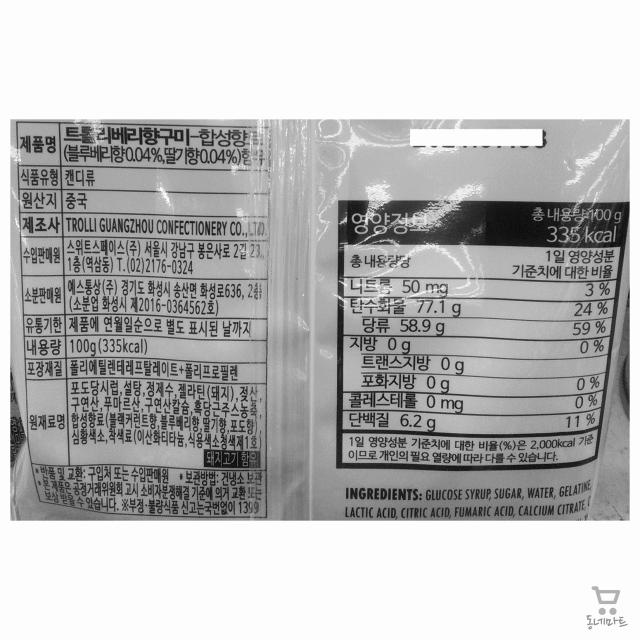Nutrition Label: (336, 191, 628, 480)
